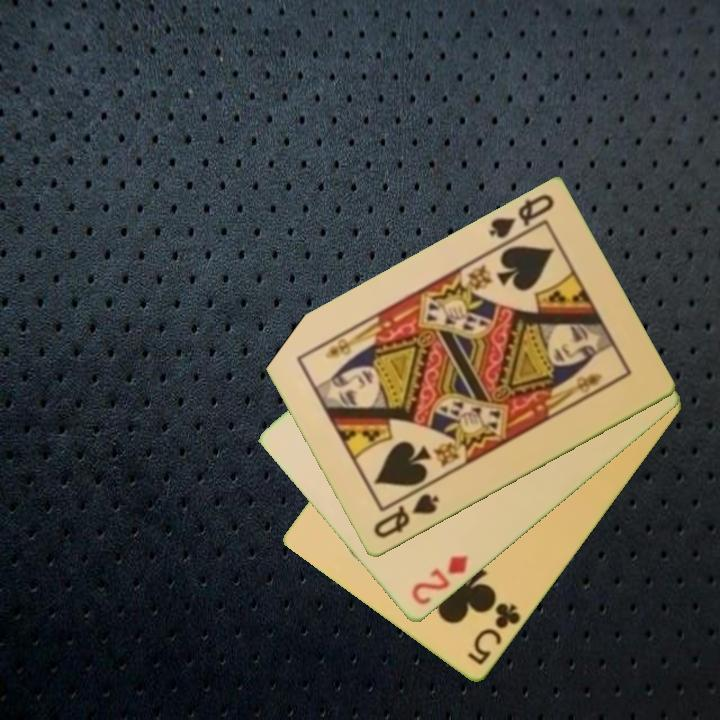2d: (407, 552, 471, 609)
5c: (464, 599, 524, 669)
Qs: (370, 490, 443, 542), (485, 191, 557, 243)
